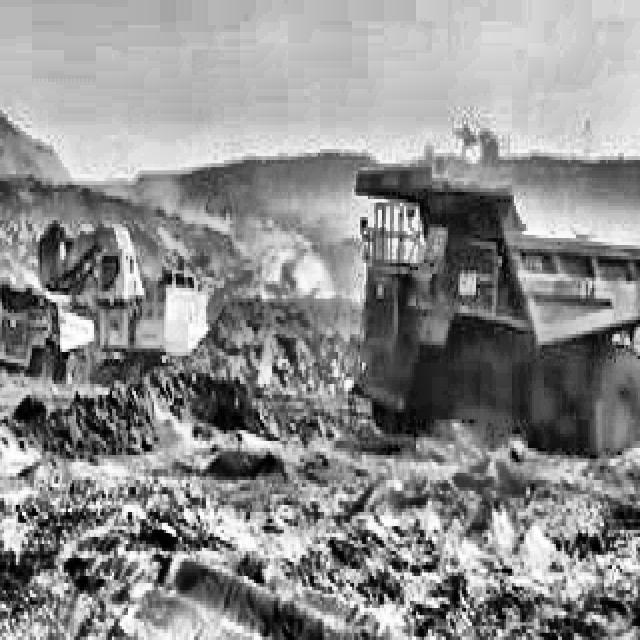dump_truck: (338, 156, 640, 480), (0, 270, 88, 391)
excavator: (30, 214, 214, 347)
